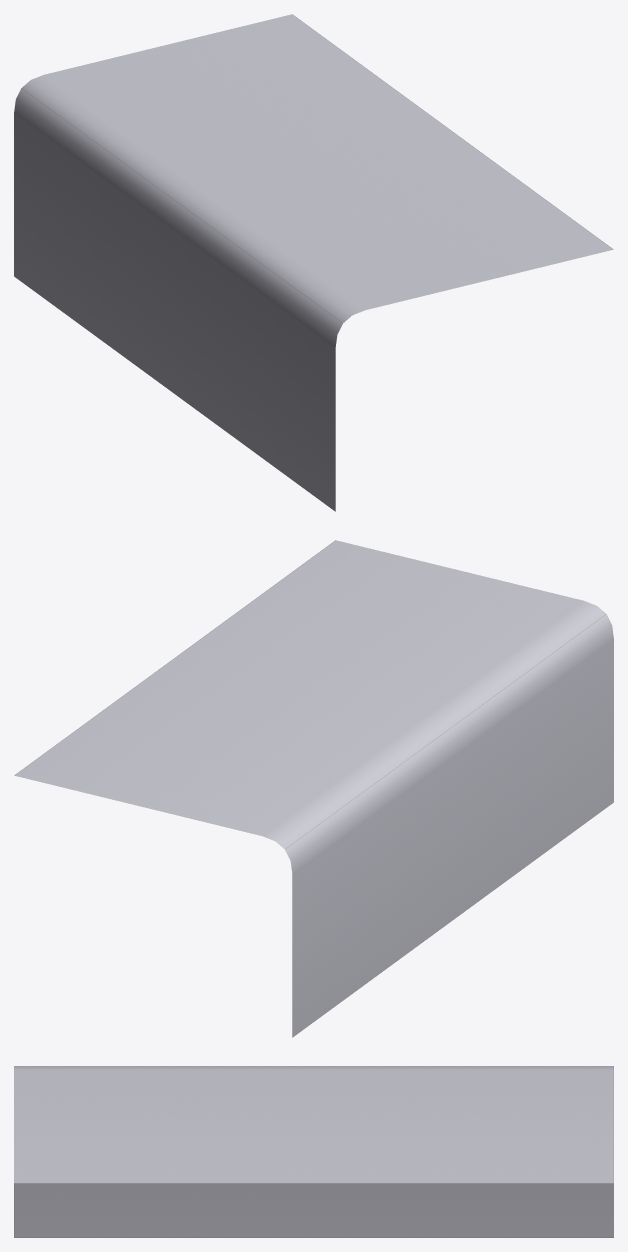
The model's file is Plate_Form_01_LP.FBX.
3 renders of one model, top to bottom at view 1: azimuth 30°, elevation 25°; view 2: azimuth 150°, elevation 25°; view 3: azimuth 270°, elevation 25°, orthographic. The views are drawn at different scales.
Visible parts, largest first — view 1: Plate_Form_01_LP; view 2: Plate_Form_01_LP; view 3: Plate_Form_01_LP.
Boxes of the visible parts, x1,y1,x2,y2 form: Plate_Form_01_LP: [14, 14, 613, 511]; Plate_Form_01_LP: [14, 540, 613, 1037]; Plate_Form_01_LP: [14, 1066, 613, 1237].
Size of the model in its own units: 6 by 4 by 12.
Materials: 1 (1 with a texture image).
